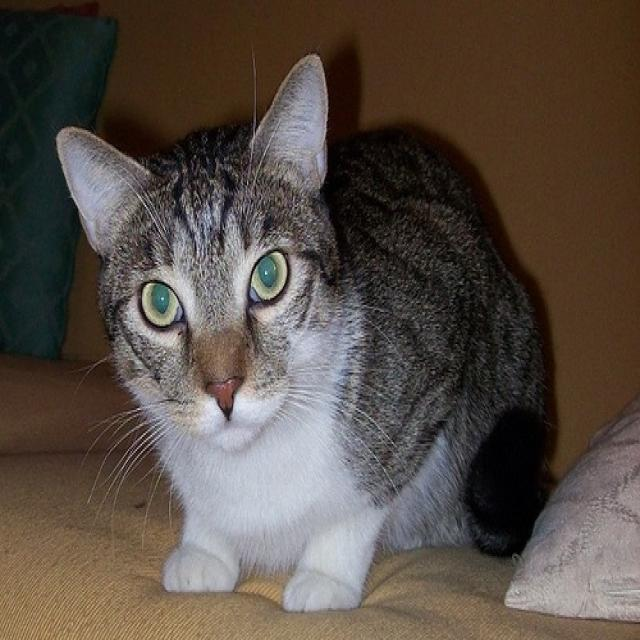cat: (56, 51, 562, 617)
